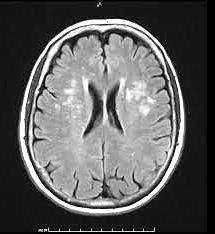Normal_Brain: (10, 1, 215, 234)
